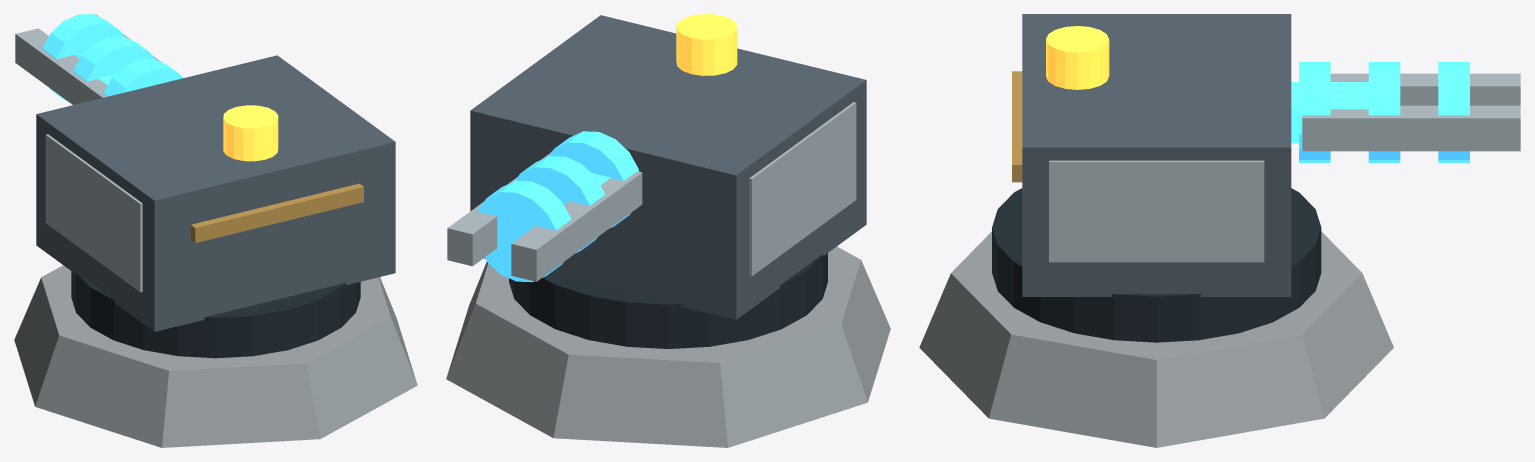
The model's file is pulse-turret.glb.
The picture shows the model from 3 angles, left to right: view 1: azimuth 30°, elevation 25°; view 2: azimuth 150°, elevation 25°; view 3: azimuth 270°, elevation 25°; orthographic projection. The views are drawn at different scales.
Parts seen in each view (by area): view 1: armored turret, octagonal emplacement, azimuth bearing, side armor module, gold identification bar, split accelerator rail, sensor, magnetic coil.002, magnetic coil.001, magnetic coil; view 2: armored turret, octagonal emplacement, azimuth bearing, side armor module, split accelerator rail, magnetic coil.002, sensor, magnetic coil.001, magnetic coil, split accelerator rail.001; view 3: octagonal emplacement, armored turret, side armor module.001, azimuth bearing, split accelerator rail.001, sensor, split accelerator rail, magnetic coil, magnetic coil.001, magnetic coil.002, energy core, gold identification bar.
Boxes of the visible parts, x1,y1,x2,y2 form: armored turret: [36, 55, 395, 331]; octagonal emplacement: [14, 265, 417, 447]; azimuth bearing: [71, 271, 360, 358]; side armor module: [45, 134, 142, 292]; gold identification bar: [190, 183, 363, 242]; split accelerator rail: [15, 28, 107, 104]; sensor: [223, 105, 278, 161]; magnetic coil.002: [42, 14, 124, 101]; magnetic coil.001: [73, 36, 154, 81]; magnetic coil: [103, 59, 182, 96]; armored turret: [470, 15, 866, 319]; octagonal emplacement: [446, 246, 890, 447]; azimuth bearing: [509, 253, 827, 348]; side armor module: [749, 102, 856, 276]; split accelerator rail: [511, 171, 642, 281]; magnetic coil.002: [477, 180, 571, 282]; sensor: [676, 14, 737, 75]; magnetic coil.001: [515, 156, 604, 252]; magnetic coil: [548, 131, 638, 227]; split accelerator rail.001: [447, 152, 551, 266]; octagonal emplacement: [919, 231, 1393, 447]; armored turret: [1022, 14, 1291, 296]; side armor module.001: [1049, 160, 1264, 262]; azimuth bearing: [992, 188, 1321, 342]; split accelerator rail.001: [1302, 105, 1520, 151]; sensor: [1046, 26, 1109, 89]; split accelerator rail: [1330, 73, 1520, 105]; magnetic coil: [1299, 62, 1330, 162]; magnetic coil.001: [1368, 62, 1400, 162]; magnetic coil.002: [1438, 62, 1469, 162]; energy core: [1291, 82, 1368, 142]; gold identification bar: [1012, 71, 1022, 182].
Bounding box in the file's own units: 1.5 × 1.07 × 1.9.
